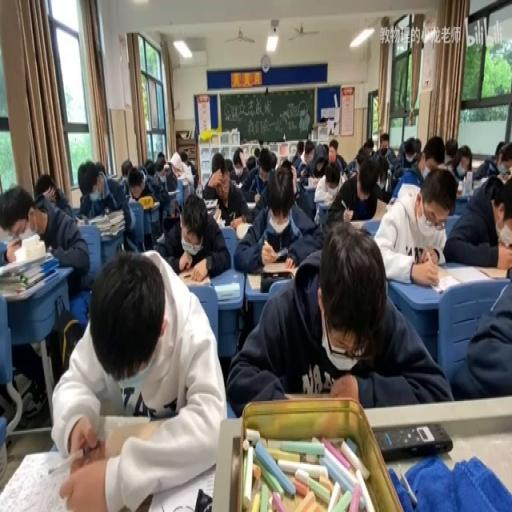calculator: (0, 449, 80, 512), (148, 466, 214, 512), (0, 247, 46, 275), (443, 263, 491, 286), (0, 229, 38, 249), (178, 267, 210, 286), (213, 282, 241, 300), (261, 259, 296, 273), (348, 215, 374, 230), (234, 222, 253, 240), (138, 196, 156, 209), (246, 273, 260, 289), (472, 175, 486, 189), (203, 196, 218, 209), (304, 175, 318, 188), (212, 206, 222, 222), (338, 168, 348, 183), (384, 170, 390, 194), (74, 214, 88, 224), (166, 189, 178, 196), (245, 201, 255, 209), (232, 181, 242, 189)
paper: (52, 249, 225, 509), (227, 220, 448, 417), (2, 179, 88, 414), (374, 165, 452, 283), (232, 164, 318, 270), (449, 270, 512, 401), (442, 168, 512, 267), (78, 158, 134, 254), (326, 152, 386, 223), (199, 154, 250, 228), (125, 164, 165, 240), (295, 139, 338, 185), (34, 170, 72, 220), (470, 140, 504, 180), (419, 135, 445, 176), (395, 135, 418, 171), (180, 151, 198, 189), (162, 159, 178, 192), (376, 134, 391, 164), (444, 136, 458, 164), (344, 154, 358, 176), (154, 152, 166, 174), (121, 159, 133, 179), (496, 155, 510, 172), (279, 156, 292, 174), (443, 160, 456, 178), (458, 154, 470, 172), (130, 176, 143, 192), (295, 139, 304, 161), (362, 138, 374, 154), (224, 156, 234, 174), (142, 158, 153, 173), (94, 161, 105, 176), (245, 155, 255, 169), (328, 140, 338, 154), (233, 158, 242, 171), (269, 152, 276, 168), (180, 149, 188, 162), (253, 145, 259, 162)
person: (374, 422, 451, 461), (260, 273, 294, 293)
